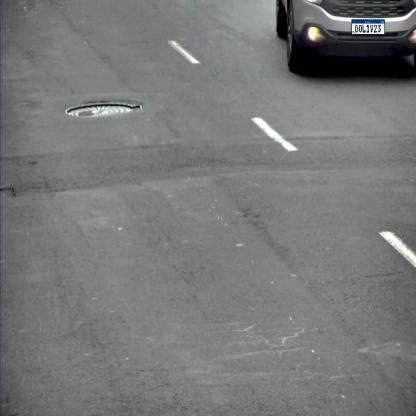PlacaM: (351, 19, 385, 35)
